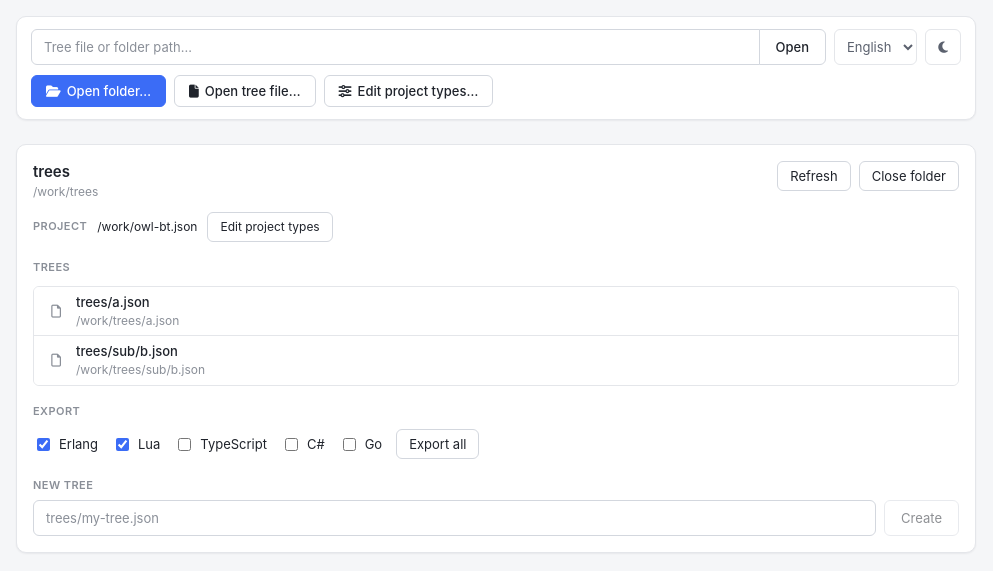
Scenario: Home › workspace panel › closing the folder forgets it
The width and height of the screenshot is (993, 571).
expect the text "trees/a.json" is shown: met, box [76,294,150,310]
Click the button "Close folder": (909, 176) [859,161,959,191]
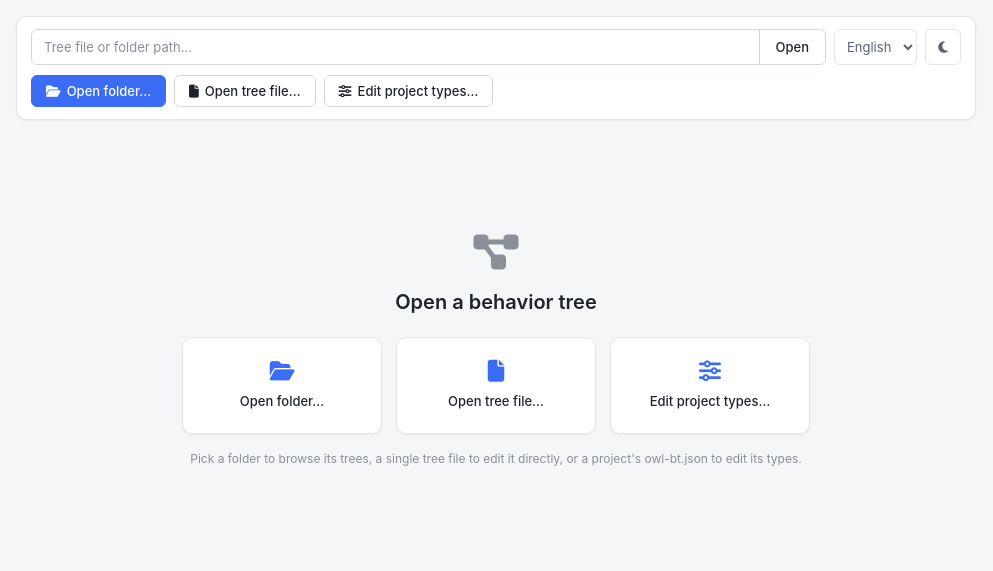
expect the element "Workspace" is gone: met
